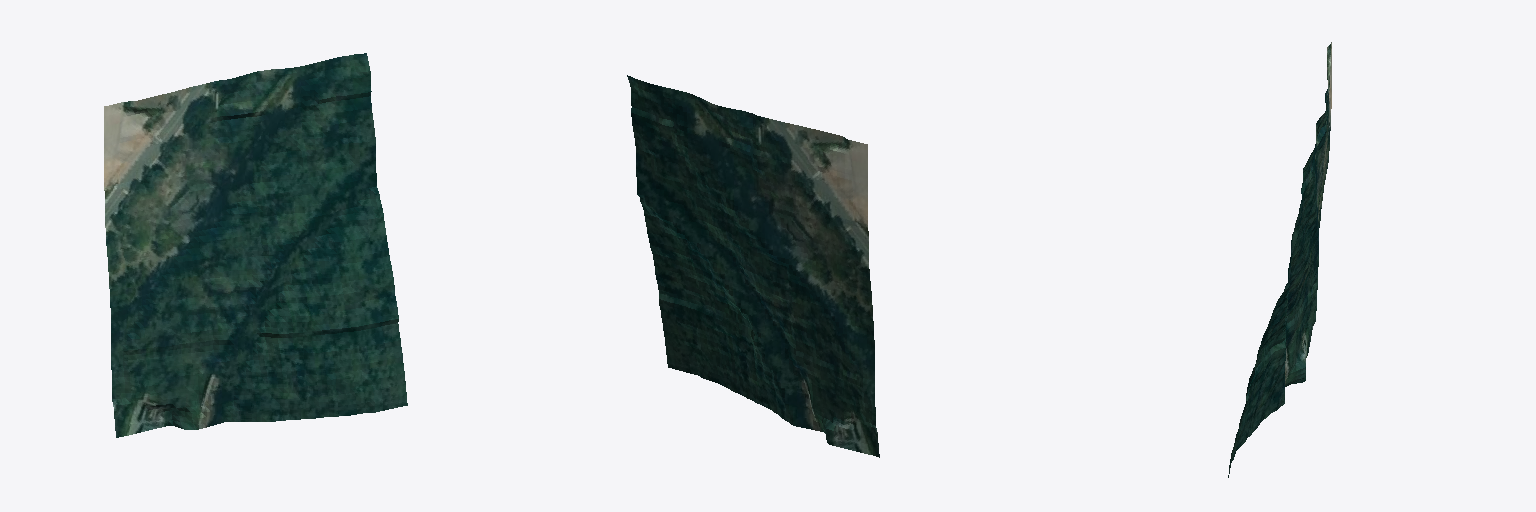
The picture shows the model from 3 angles: view 1: azimuth 30°, elevation 25°; view 2: azimuth 150°, elevation 25°; view 3: azimuth 270°, elevation 25°; orthographic projection.
Visible parts, largest first — view 1: 281396_113918; view 2: 281396_113918; view 3: 281396_113918.
Part boxes in pixels (x1,y1,x2,y2): 281396_113918: (104, 53, 407, 437); 281396_113918: (627, 75, 879, 457); 281396_113918: (1228, 42, 1331, 477).
Size of the model in its own units: 122 by 150 by 43.54.
Materials: 1 (1 with a texture image).